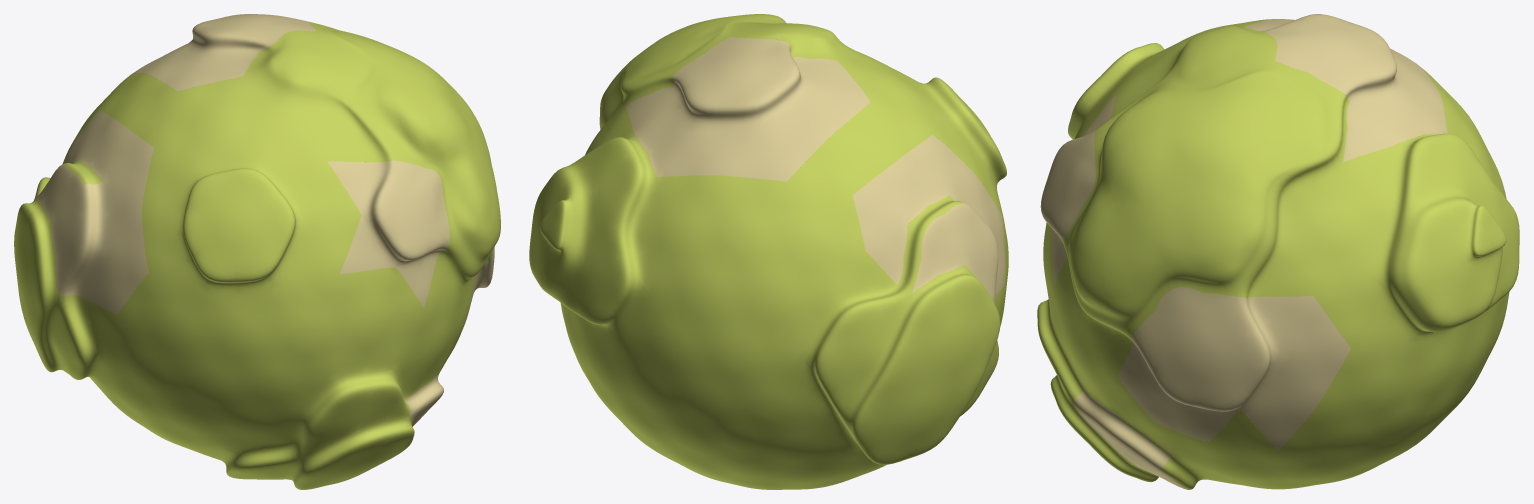
File: Planet.glb
The picture shows the model from 3 angles, left to right: view 1: azimuth 30°, elevation 25°; view 2: azimuth 150°, elevation 25°; view 3: azimuth 270°, elevation 25°; orthographic projection. The views are drawn at different scales.
Visible parts, largest first — view 1: Planet; view 2: Planet; view 3: Planet.
Part boxes in pixels (x1,y1,x2,y2): Planet: (14,14,500,489); Planet: (529,14,1008,489); Planet: (1037,14,1519,489).
Bounding box in the file's own units: 2.19 × 2.07 × 2.03.
